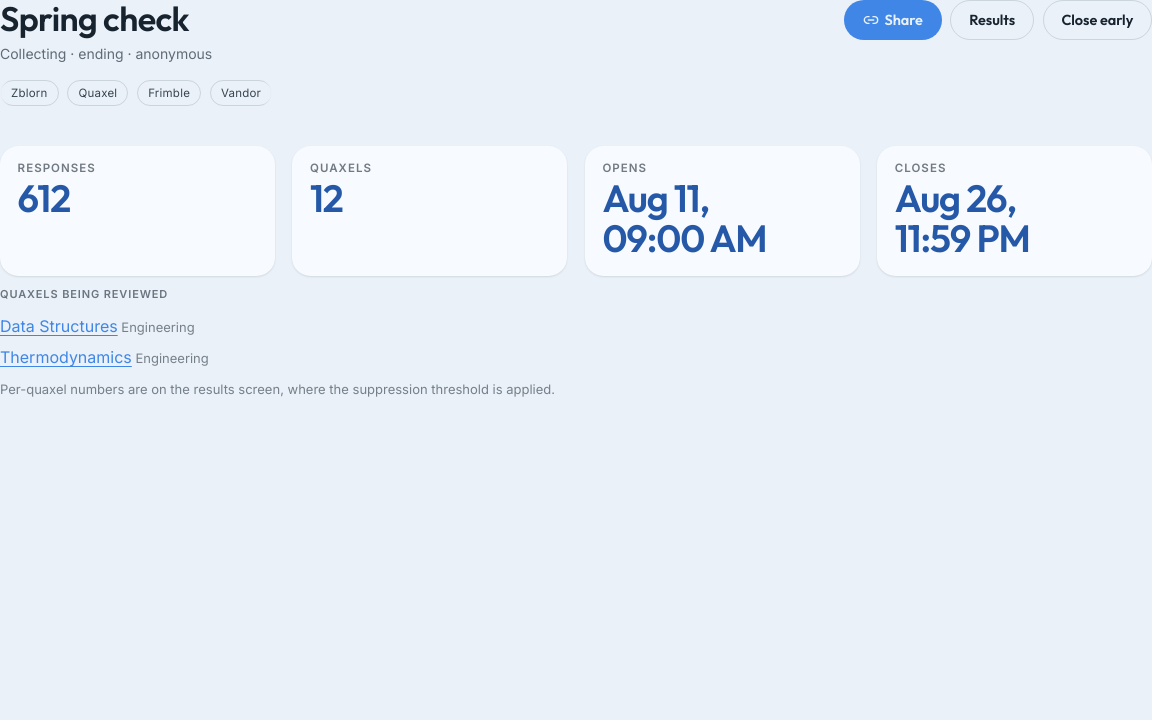
it: the detail page › closing states the real count and what is kept
Step 1. Click the button "Close early" → [1097, 20], box [1043,0,1151,40]
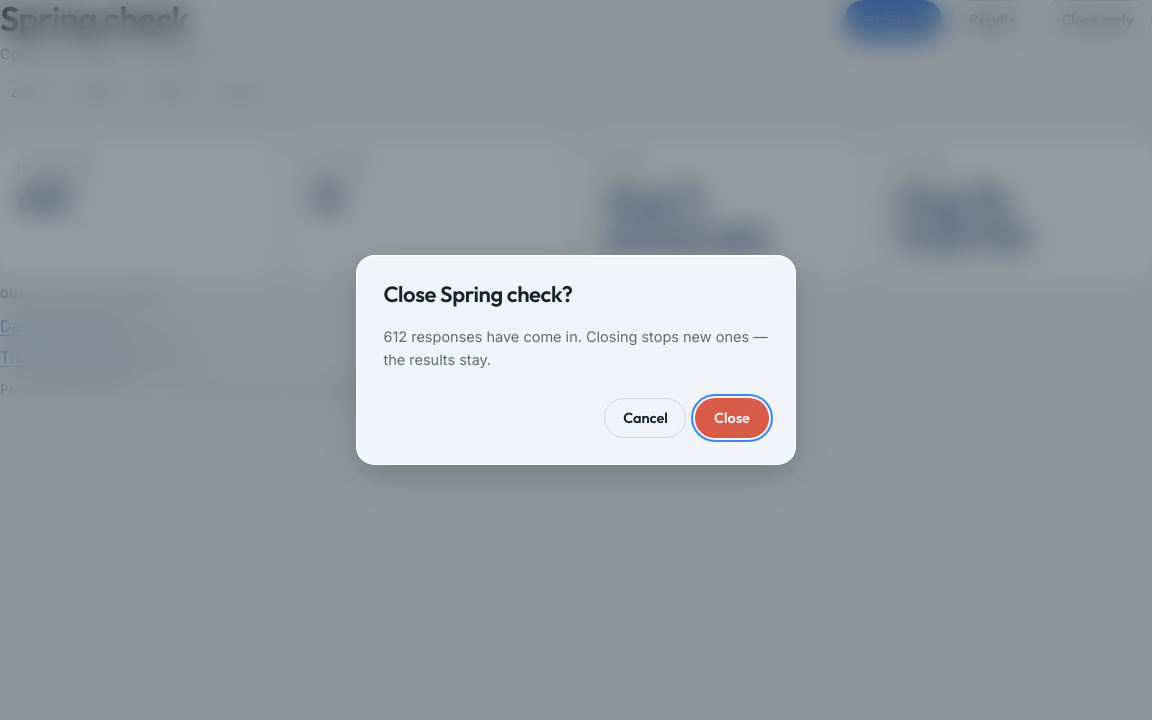
Expected: the text "the results stay" is shown, [383,328,768,368]
